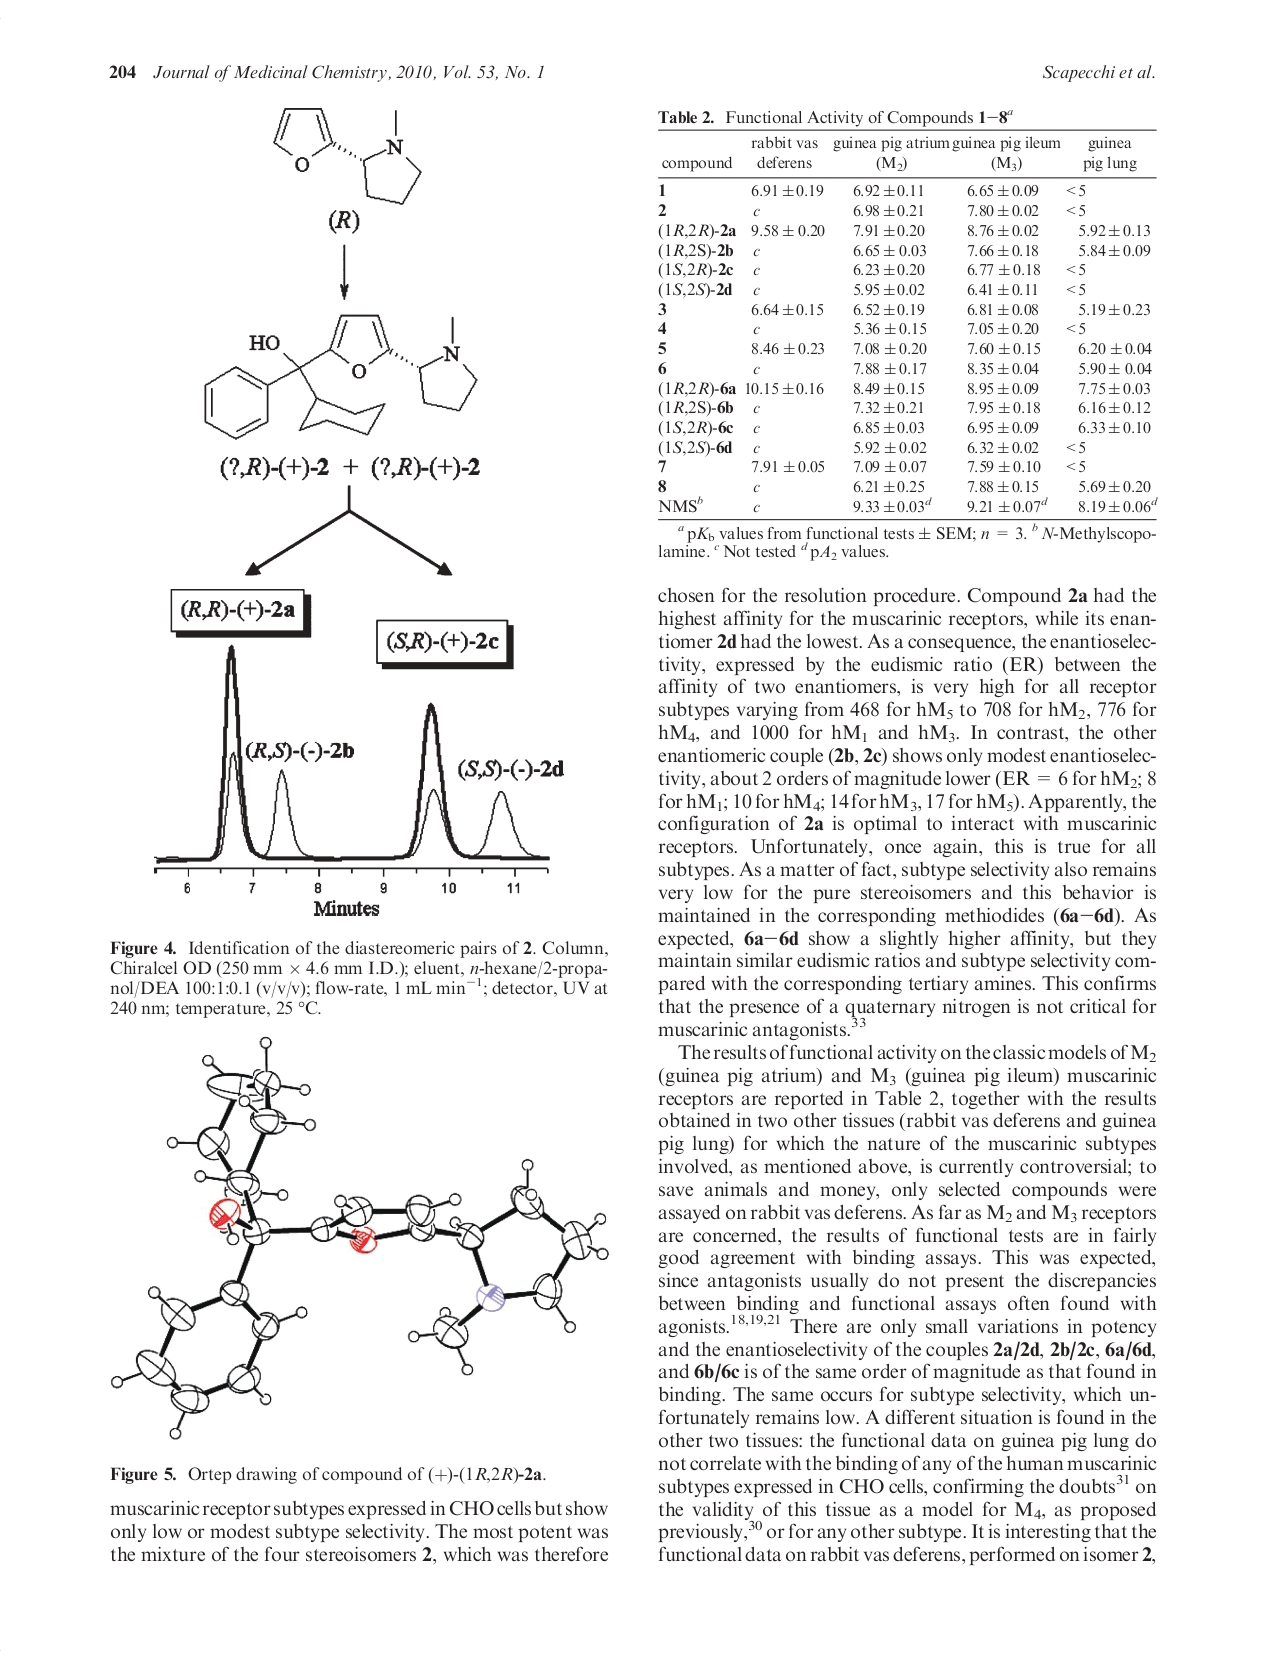exist_molecular: (108, 1035, 612, 1439), (199, 313, 481, 443), (273, 102, 422, 207)
